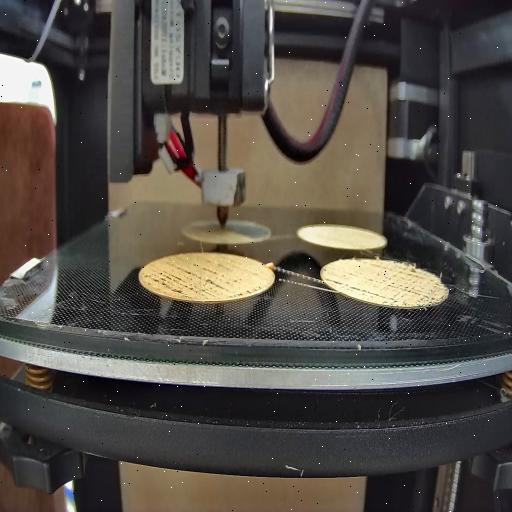under_extrusion: (142, 266, 266, 296), (372, 263, 442, 307), (324, 272, 370, 298)
